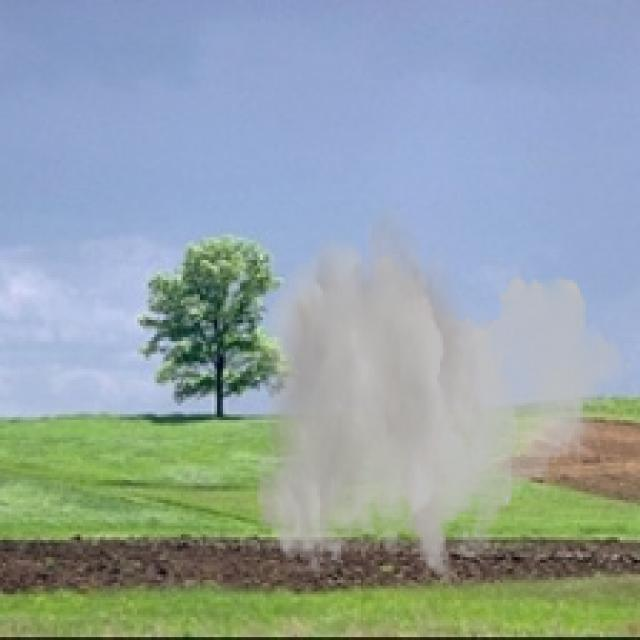Smoke: (255, 191, 634, 580)
